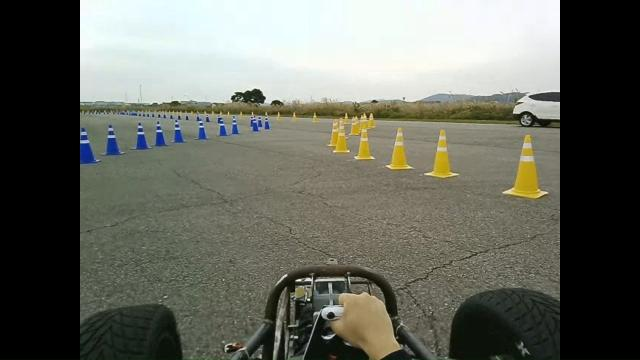blue cone: (102, 119, 123, 158), (130, 118, 152, 151), (168, 115, 188, 147), (151, 115, 170, 148), (193, 117, 210, 145), (212, 116, 230, 141)
yellow cone: (502, 133, 548, 199), (424, 128, 459, 178), (385, 126, 414, 170), (354, 127, 376, 160)
